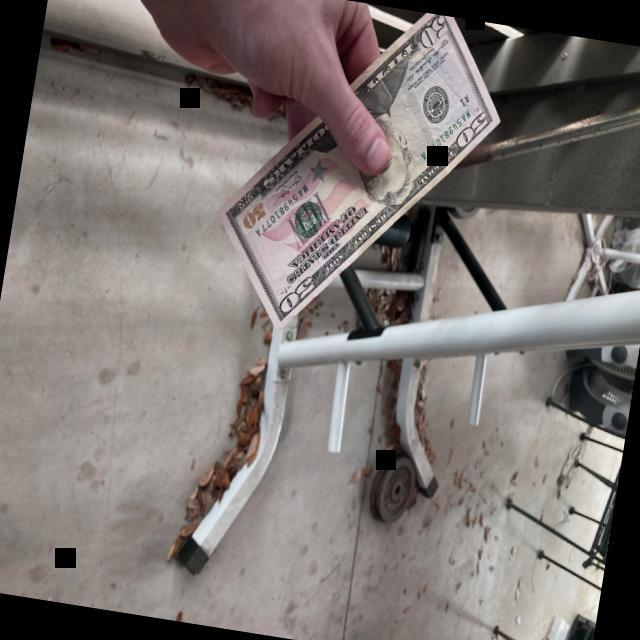fifty: (216, 13, 500, 334)
